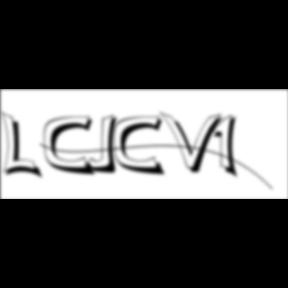1: (210, 114, 244, 182)
C: (44, 115, 98, 178), (114, 115, 168, 178)
J: (86, 114, 124, 176)
L: (1, 110, 45, 182)
V: (161, 110, 228, 176)
